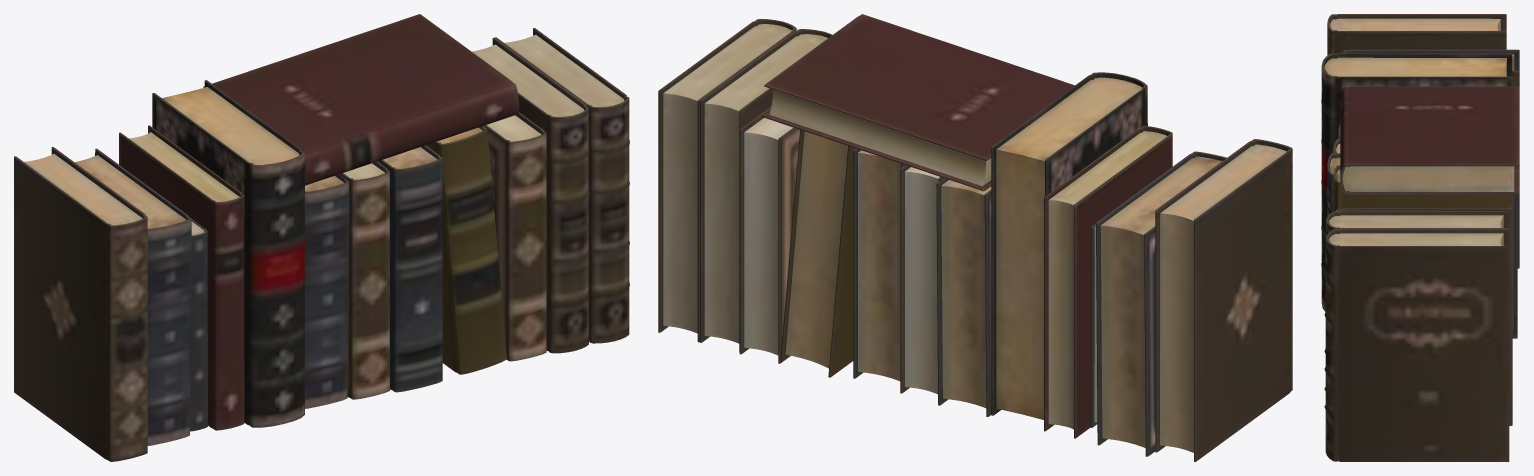
Rendered from SM_BooksSet03_bc00d5.glb.
3 views of the same model, side by side, from view 1: azimuth 30°, elevation 25°; view 2: azimuth 150°, elevation 25°; view 3: azimuth 270°, elevation 25° (orthographic). The views are drawn at different scales.
Size of the model in its own units: 0.6248 by 0.3126 by 0.2252.
Materials: 1 (1 with a texture image).
